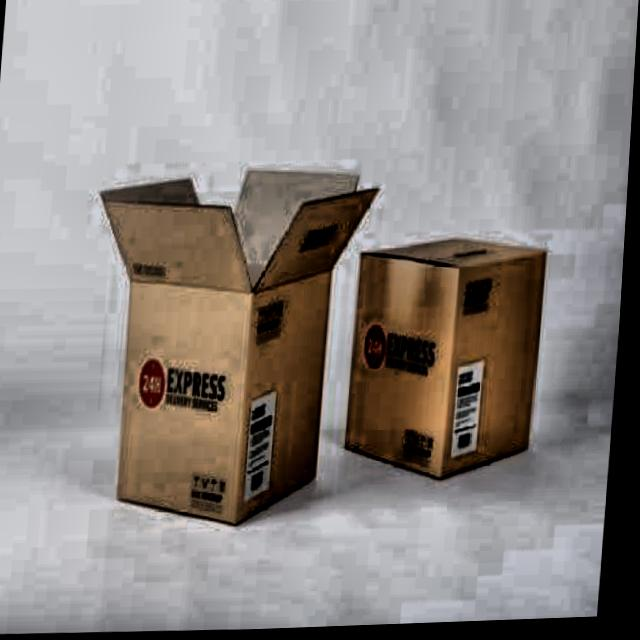Cardbox: (53, 128, 356, 548), (328, 193, 593, 507)
